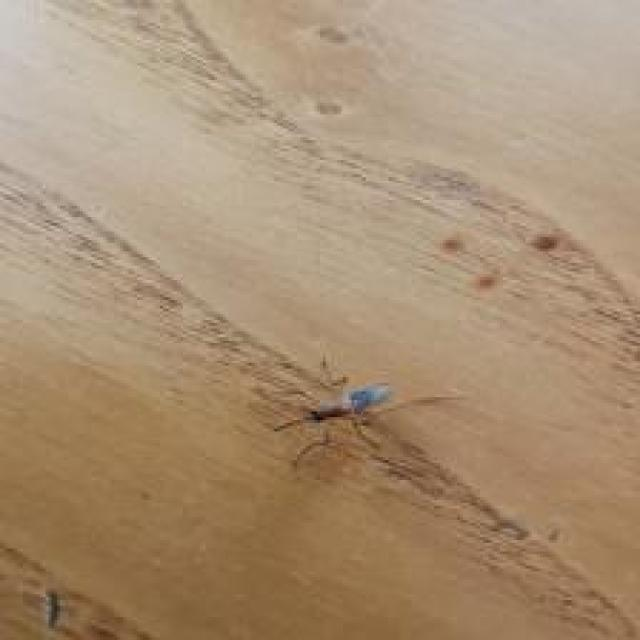Culex: (270, 353, 464, 470)
